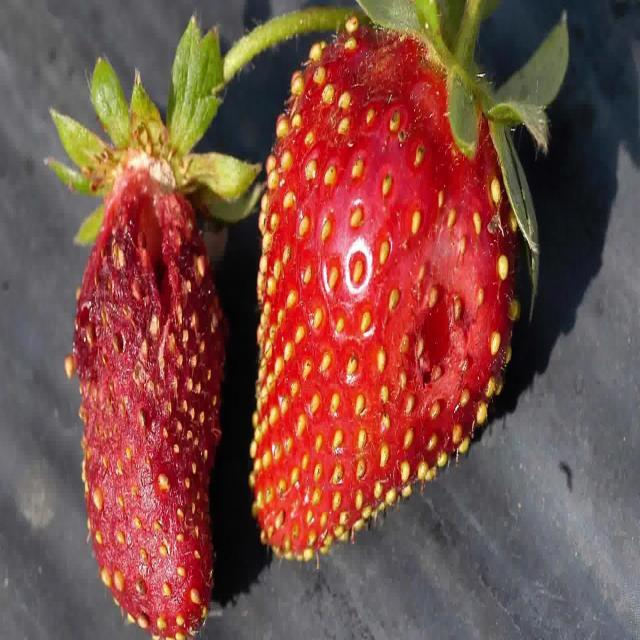Mancha negra Antracnosis: (248, 0, 522, 567), (48, 154, 229, 634)
